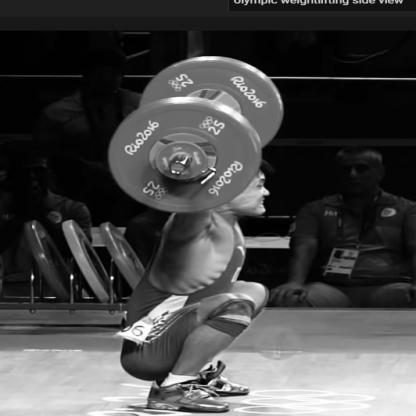barbell: (106, 54, 284, 214)
